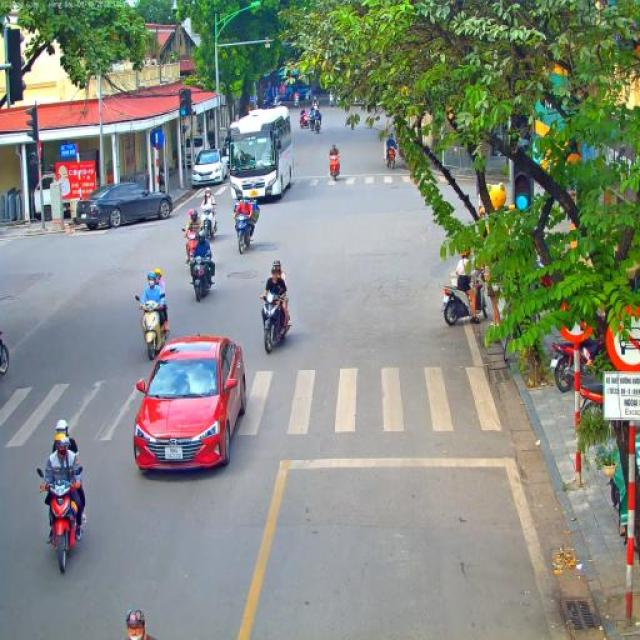bus: (220, 106, 294, 203)
car: (132, 333, 248, 473), (76, 181, 174, 230), (192, 149, 228, 186)
motorcycle: (36, 466, 83, 574), (549, 337, 599, 392), (136, 293, 170, 362), (440, 281, 488, 327), (260, 290, 290, 354), (579, 368, 607, 422), (188, 254, 212, 302), (232, 210, 256, 254), (181, 227, 199, 264), (199, 204, 216, 240), (0, 330, 9, 375), (328, 154, 339, 181), (386, 144, 396, 168), (299, 114, 309, 128), (315, 116, 323, 133), (309, 116, 315, 132), (328, 95, 334, 106), (293, 98, 299, 107)
truck: (33, 169, 78, 222), (258, 70, 300, 106)
